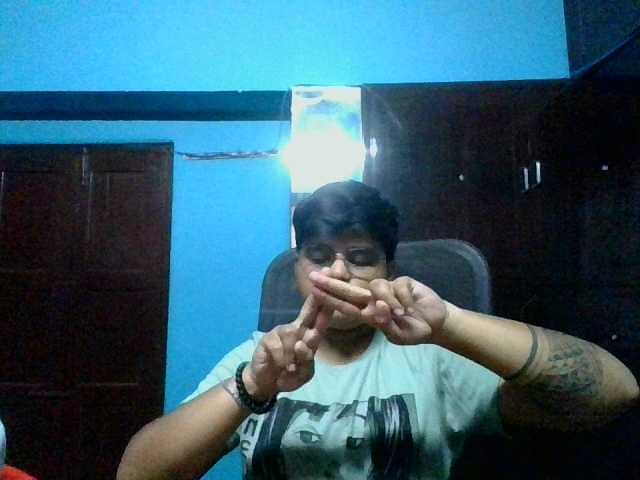F: (246, 264, 436, 411)
